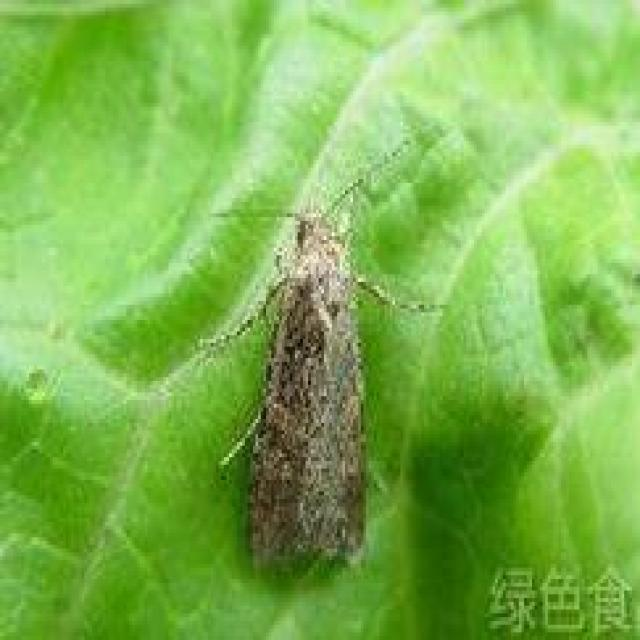BeetArmyWorm-Adult-: (200, 150, 435, 578)
